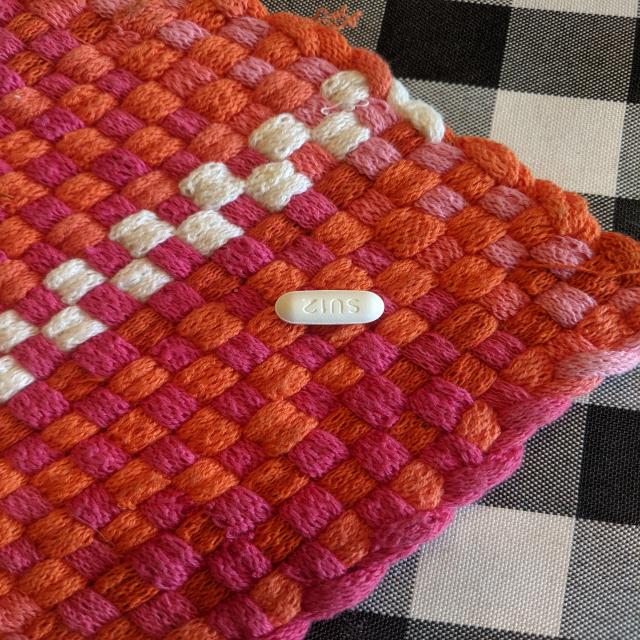non-organic waste: (274, 288, 386, 326)
